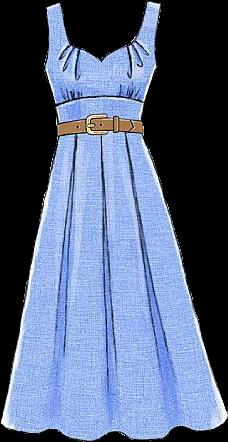Bodice: (44, 1, 160, 138)
Hemline: (0, 414, 227, 441)
Neckline: (57, 0, 150, 63), (55, 92, 144, 107)
Skirt: (1, 134, 227, 440)
Waistline: (55, 130, 144, 140)
